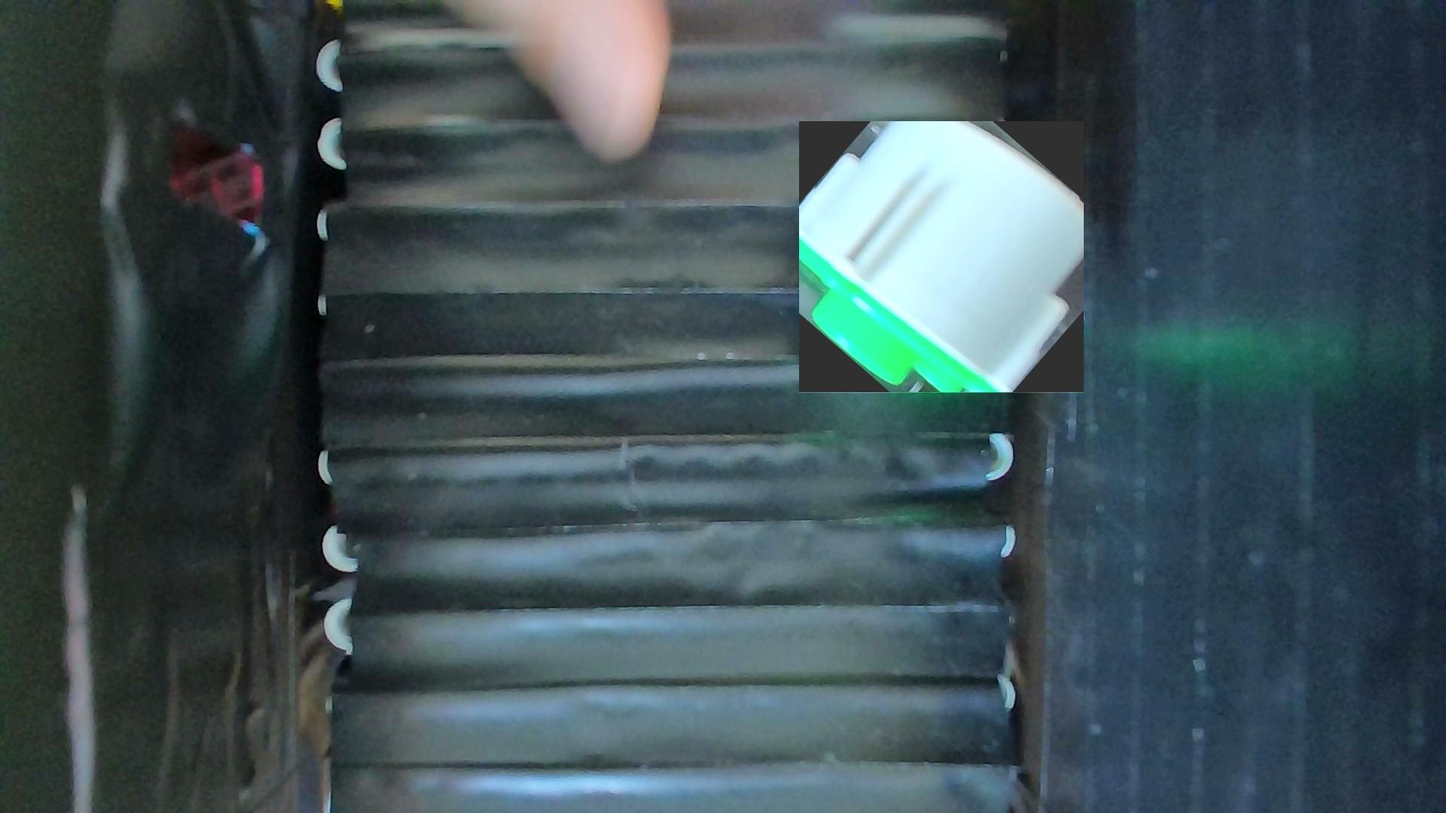cartridge: (799, 122, 1084, 393)
